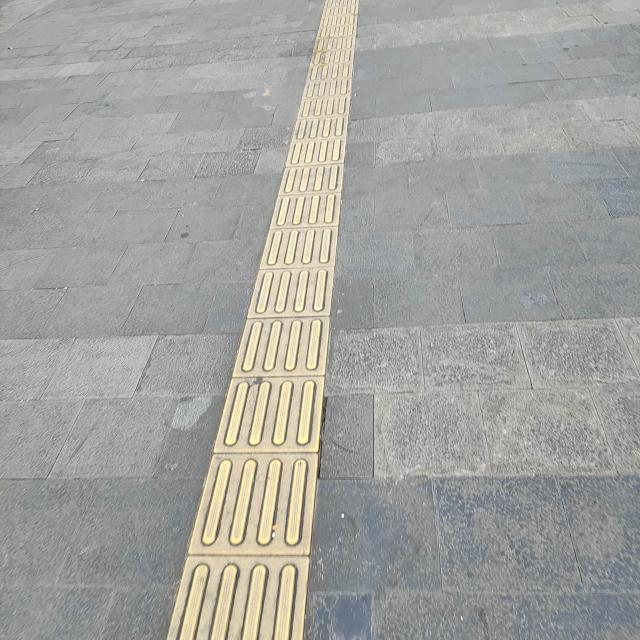lurus: (210, 0, 340, 640)
